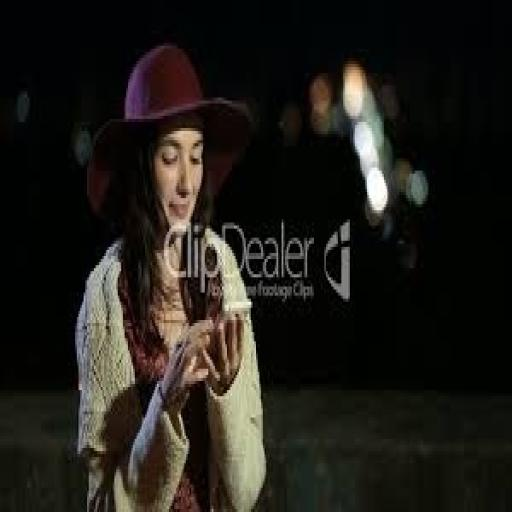texting: (72, 40, 268, 509)
